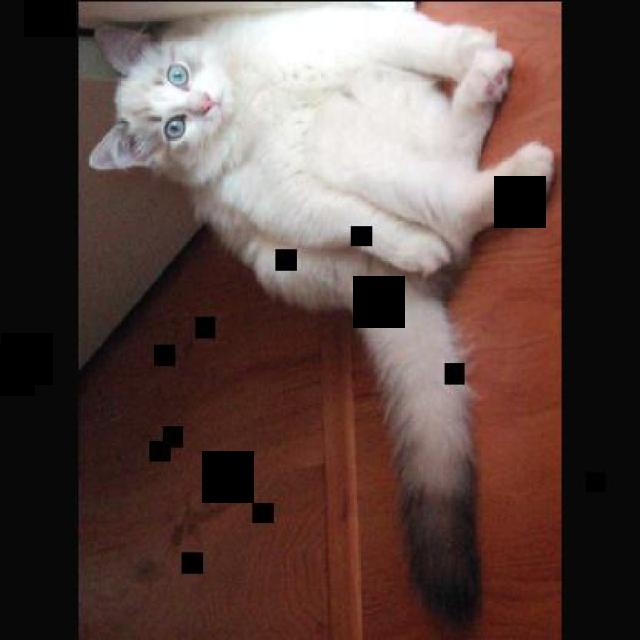unauthorized: (84, 4, 554, 624)
